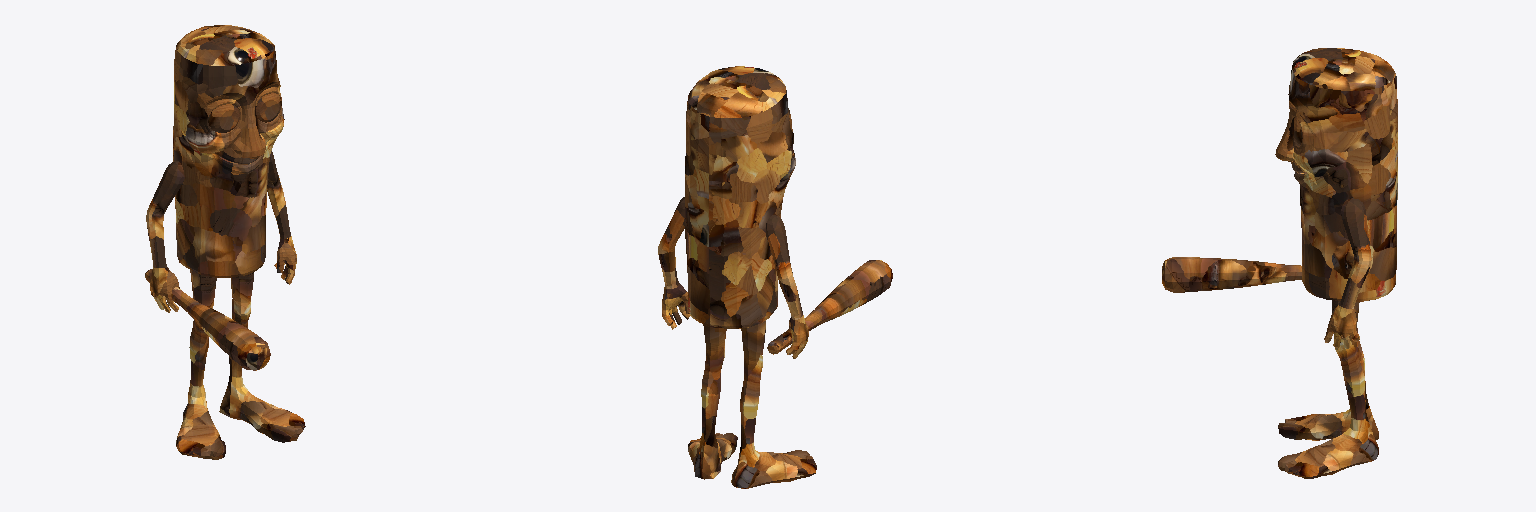
3 renders of one model, left to right at view 1: azimuth 30°, elevation 25°; view 2: azimuth 150°, elevation 25°; view 3: azimuth 270°, elevation 25°, orthographic.
Parts seen in each view (by area): view 1: Foot_LP_Plane_001_Sahur_0; view 2: Foot_LP_Plane_001_Sahur_0; view 3: Foot_LP_Plane_001_Sahur_0.
Boxes of the visible parts, x1,y1,x2,y2 form: Foot_LP_Plane_001_Sahur_0: [145, 25, 305, 459]; Foot_LP_Plane_001_Sahur_0: [658, 66, 892, 488]; Foot_LP_Plane_001_Sahur_0: [1162, 48, 1397, 478].
Size of the model in its own units: 0.0068 by 0.0181 by 0.0098.
1 materials, 1 textured.